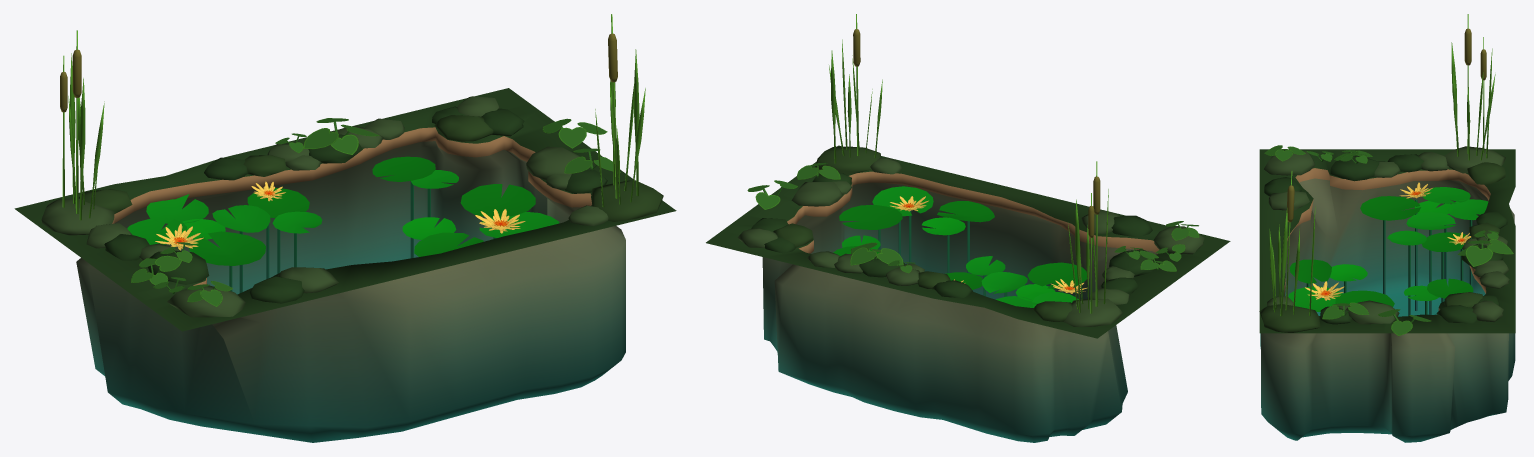
The model's file is Pond.glb.
The picture shows the model from 3 angles, left to right: view 1: azimuth 30°, elevation 25°; view 2: azimuth 150°, elevation 25°; view 3: azimuth 270°, elevation 25°; orthographic projection. The views are drawn at different scales.
Parts seen in each view (by area): view 1: Pond; view 2: Pond; view 3: Pond.
Part boxes in pixels (x1,y1,x2,y2): Pond: [14, 14, 676, 442]; Pond: [706, 14, 1230, 442]; Pond: [1259, 14, 1515, 442].
Bounding box in the file's own units: 12.31 × 8.07 × 7.
1 material, 1 textured.
